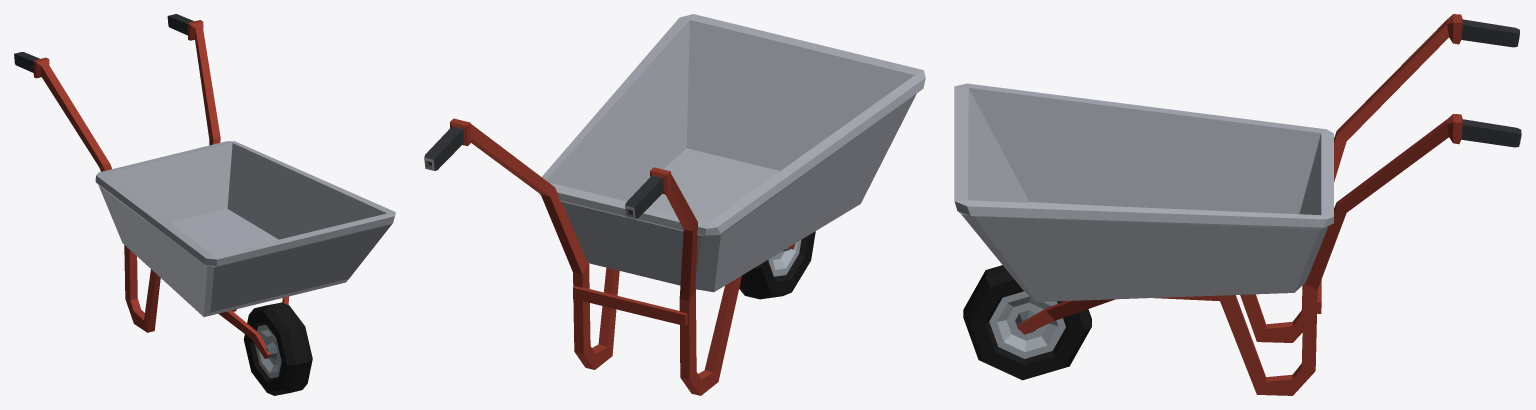
The model's file is SM_Prop_Wheelbarrow_01.fbx.
3 views of the same model, side by side, from view 1: azimuth 30°, elevation 25°; view 2: azimuth 150°, elevation 25°; view 3: azimuth 270°, elevation 25° (orthographic). The views are drawn at different scales.
Visible parts, largest first — view 1: SM_Prop_Wheelbarrow_01, SM_Prop_Wheelbarrow_Wheel_01; view 2: SM_Prop_Wheelbarrow_01, SM_Prop_Wheelbarrow_Wheel_01; view 3: SM_Prop_Wheelbarrow_01, SM_Prop_Wheelbarrow_Wheel_01.
Boxes of the visible parts, <box> form: SM_Prop_Wheelbarrow_01: <box>14,14,395,358</box>; SM_Prop_Wheelbarrow_Wheel_01: <box>243,302,312,395</box>; SM_Prop_Wheelbarrow_01: <box>424,14,925,395</box>; SM_Prop_Wheelbarrow_Wheel_01: <box>739,231,815,299</box>; SM_Prop_Wheelbarrow_01: <box>954,14,1521,395</box>; SM_Prop_Wheelbarrow_Wheel_01: <box>963,265,1091,380</box>.
Size of the model in its own units: 86.33 by 101 by 168.
